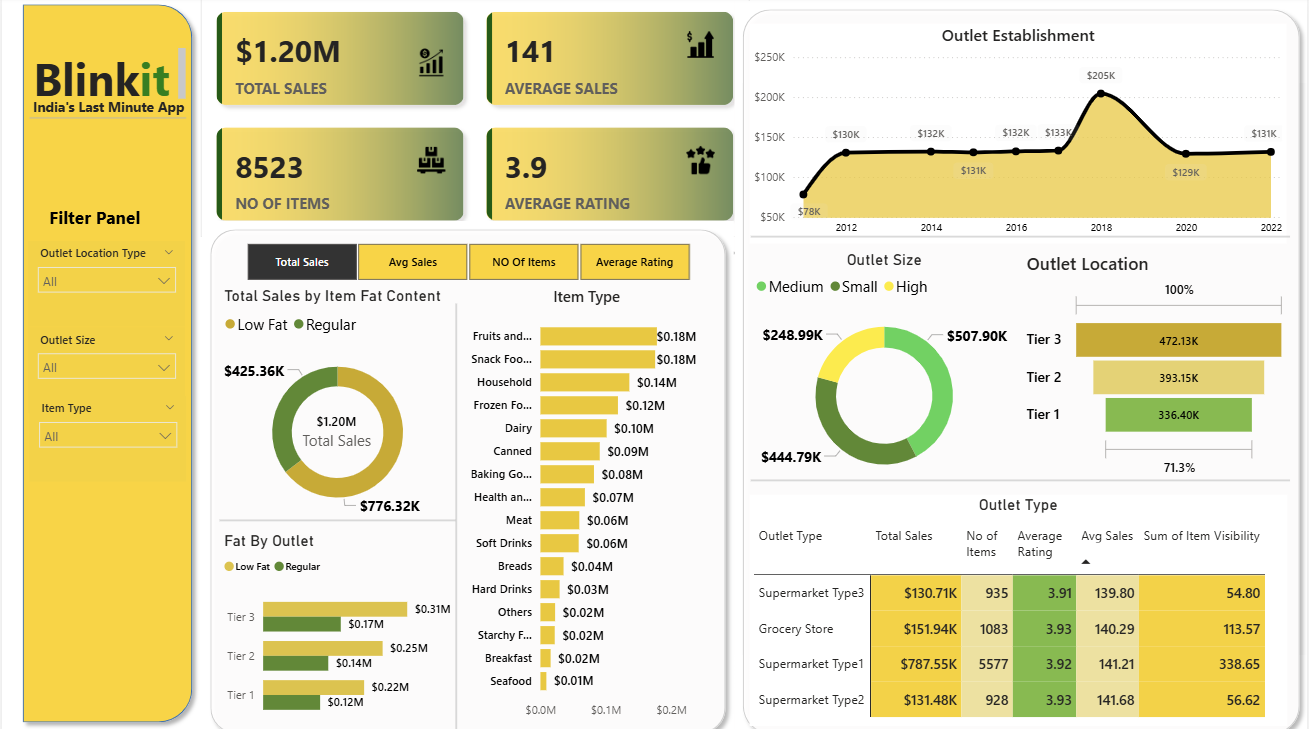

Layout of this report page (visuals, bound fields, positions):
{"tool":"powerbi","page":{"name":"Page 1","canvas":[1400,800],"ordinal":0},"visuals":[{"type":"shape","box":[13.5,0,199.6,788],"z":0},{"type":"textbox","box":[28.5,51,174.1,69],"z":1000},{"type":"textbox","box":[28.5,103.6,174.1,88.6],"z":2000},{"type":"cardVisual","fields":{"Data":["BlinkIT Grocery Data.Total Sales","BlinkIT Grocery Data.Avg Sales","BlinkIT Grocery Data.NO Of Items","BlinkIT Grocery Data.Average Rating"]},"box":[213.1,0,588.3,258.1],"z":3000},{"type":"shape","box":[214.6,241.6,570.3,558.3],"z":4000},{"type":"donutChart","fields":{"Y":["BlinkIT Grocery Data.Total Sales"],"Category":["BlinkIT Grocery Data.Item Fat Content"]},"box":[232.6,310.7,253.6,262.7],"z":5000},{"type":"slicer","fields":{"Values":["Metrics.Metrics"]},"box":[237.1,258.1,523.8,52.5],"z":6000},{"type":"cardVisual","fields":{"Data":["BlinkIT Grocery Data.Total Sales"]},"box":[303.2,430.7,112.6,66],"z":7000},{"type":"clusteredBarChart","title":"Fat By Outlet","fields":{"Y":["BlinkIT Grocery Data.Total Sales"],"Category":["BlinkIT Grocery Data.Outlet Location Type"],"Series":["BlinkIT Grocery Data.Item Fat Content"]},"box":[233.3,573.3,253.3,215],"z":8000},{"type":"barChart","title":"Item Type","fields":{"Y":["BlinkIT Grocery Data.Total Sales"],"Category":["BlinkIT Grocery Data.Item Type"]},"box":[486.3,310.7,280.7,472.8],"z":9000},{"type":"shape","box":[785,5,615,795],"z":10000},{"type":"lineChart","title":"Outlet Establishment","fields":{"Category":["BlinkIT Grocery Data.Outlet Establishment Year"],"Y":["BlinkIT Grocery Data.Total Sales"]},"box":[801.5,30,576.3,235.6],"z":11000},{"type":"shape","box":[30,103.3,168.3,55],"z":12000},{"type":"shape","box":[803.3,230,578.3,55],"z":13000},{"type":"shape","box":[463.3,330,46.7,458.3],"z":14000},{"type":"shape","box":[233.3,535,253.3,55],"z":15000},{"type":"donutChart","title":"Outlet Size","fields":{"Y":["BlinkIT Grocery Data.Total Sales"],"Category":["BlinkIT Grocery Data.Outlet Size"]},"box":[803.3,271.7,286.7,263.3],"z":16000},{"type":"funnel","title":"Outlet Location","fields":{"Y":["Sum(BlinkIT Grocery Data.Sales)"],"Category":["BlinkIT Grocery Data.Outlet Location Type"]},"box":[1093.3,273.3,288.3,246.7],"z":17000},{"type":"shape","box":[803.3,491.7,578.3,55],"z":18000},{"type":"pivotTable","title":"Outlet Type","fields":{"Rows":["BlinkIT Grocery Data.Outlet Type"],"Values":["BlinkIT Grocery Data.Total Sales","BlinkIT Grocery Data.NO Of Items","BlinkIT Grocery Data.Average Rating","BlinkIT Grocery Data.Avg Sales","Sum(BlinkIT Grocery Data.Item Visibility)"]},"box":[801.7,535,576.7,248.3],"z":19000},{"type":"slicer","fields":{"Values":["BlinkIT Grocery Data.Outlet Location Type"]},"box":[28.3,263.3,168.3,91.7],"z":20000},{"type":"slicer","fields":{"Values":["BlinkIT Grocery Data.Outlet Size"]},"box":[28.3,355,168.3,91.7],"z":21000},{"type":"slicer","fields":{"Values":["BlinkIT Grocery Data.Item Type"]},"box":[30,428.3,168.3,91.7],"z":22000},{"type":"textbox","box":[45,220,136.7,38.3],"z":23000}]}

Visuals, with their boxes in screenshot pixels (x1, y1, x2, y2), scaled from the page's 1400x800 canvas onto the 1309x729 screenshot:
shape: rect(13, 0, 199, 718)
textbox: rect(27, 46, 189, 109)
textbox: rect(27, 94, 189, 175)
cardVisual - BlinkIT Grocery Data.Total Sales x BlinkIT Grocery Data.Avg Sales: rect(199, 0, 749, 235)
shape: rect(201, 220, 734, 728)
donutChart - BlinkIT Grocery Data.Total Sales x BlinkIT Grocery Data.Item Fat Content: rect(217, 283, 455, 523)
slicer - Metrics.Metrics: rect(222, 235, 711, 283)
cardVisual - BlinkIT Grocery Data.Total Sales: rect(283, 392, 389, 453)
"Fat By Outlet" clusteredBarChart: rect(218, 522, 455, 718)
"Item Type" barChart: rect(455, 283, 717, 714)
shape: rect(734, 5, 1308, 728)
"Outlet Establishment" lineChart: rect(749, 27, 1288, 242)
shape: rect(28, 94, 185, 144)
shape: rect(751, 210, 1292, 260)
shape: rect(433, 301, 477, 718)
shape: rect(218, 488, 455, 538)
"Outlet Size" donutChart: rect(751, 248, 1019, 488)
"Outlet Location" funnel: rect(1022, 249, 1292, 474)
shape: rect(751, 448, 1292, 498)
"Outlet Type" pivotTable: rect(750, 488, 1289, 714)
slicer - BlinkIT Grocery Data.Outlet Location Type: rect(26, 240, 184, 323)
slicer - BlinkIT Grocery Data.Outlet Size: rect(26, 323, 184, 407)
slicer - BlinkIT Grocery Data.Item Type: rect(28, 390, 185, 474)
textbox: rect(42, 200, 170, 235)
